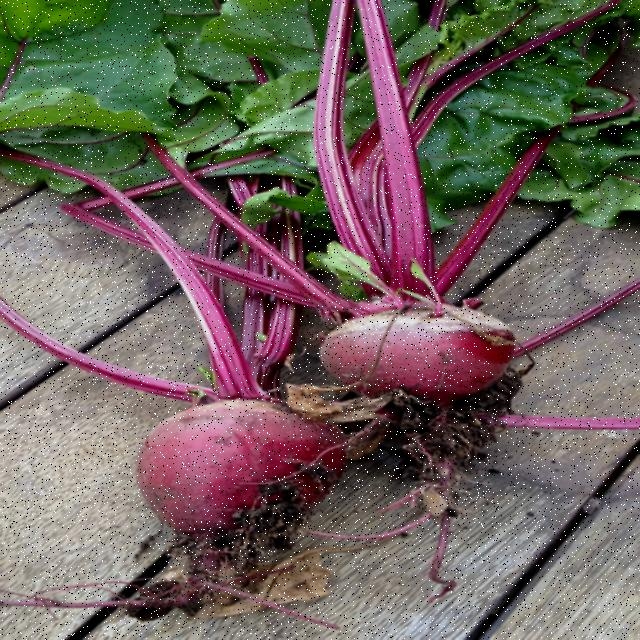Beetroot: (74, 354, 370, 594), (282, 250, 547, 490)
